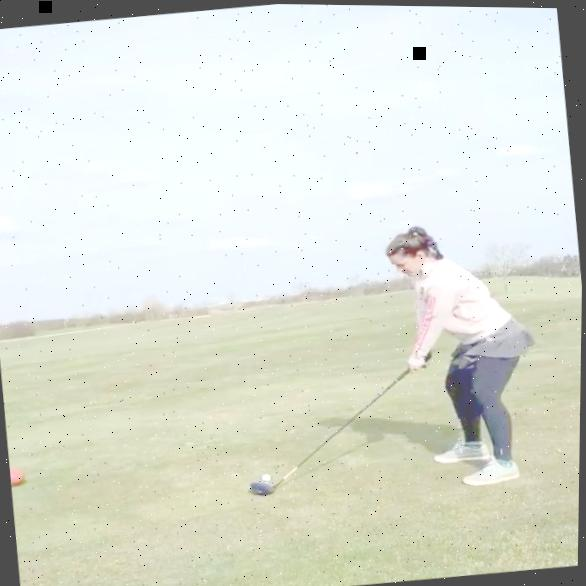ClubHead: (250, 478, 277, 497)
GolfBall: (263, 473, 274, 481)
